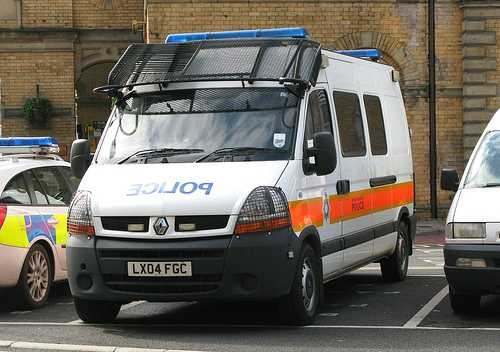Police Van: (63, 28, 424, 310)
